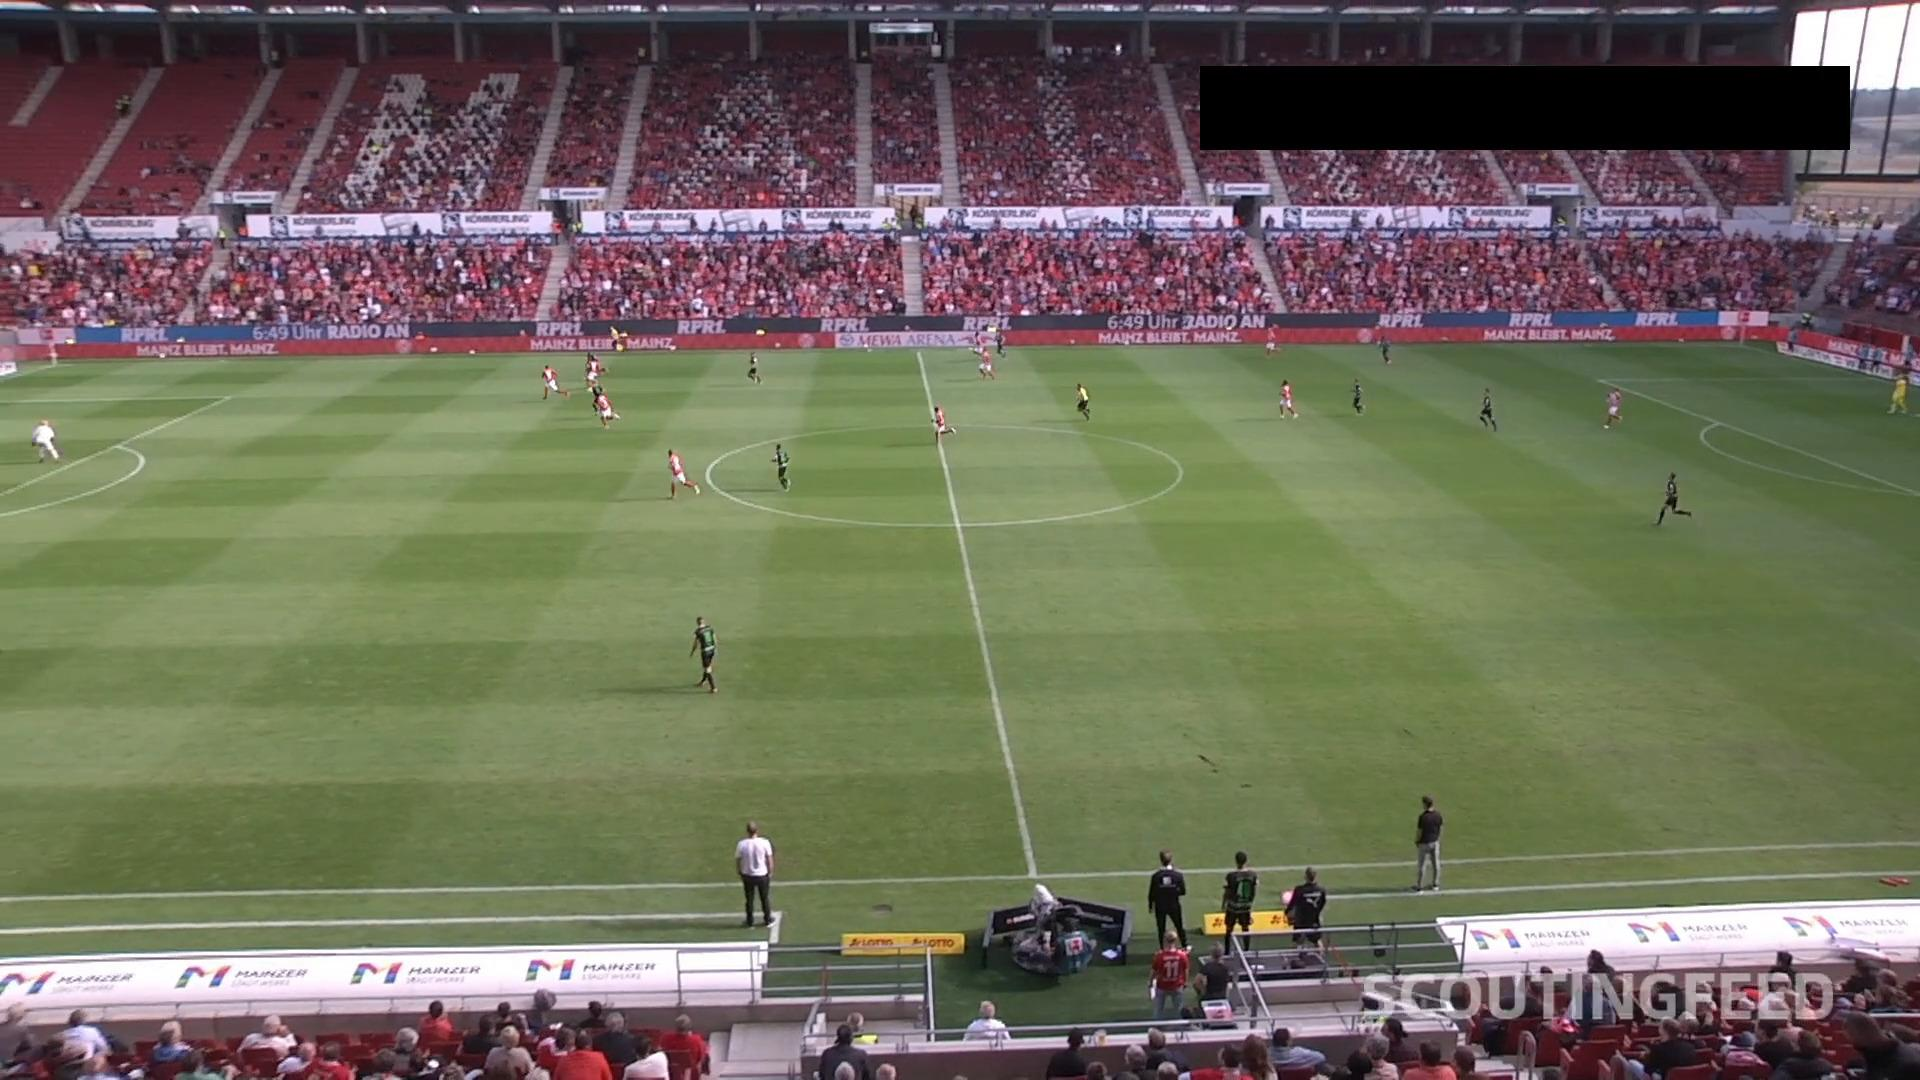keeper: (30, 418, 64, 462), (1888, 374, 1909, 415)
player: (691, 616, 719, 696), (1655, 470, 1693, 526), (666, 446, 702, 499), (540, 364, 571, 402), (931, 406, 958, 448), (771, 442, 793, 493), (1603, 386, 1624, 431), (1277, 378, 1298, 422), (1479, 385, 1499, 431), (598, 394, 619, 429), (584, 347, 608, 375), (746, 349, 763, 386), (1350, 378, 1367, 415), (1376, 335, 1395, 365), (977, 347, 994, 380), (1265, 324, 1282, 357), (970, 330, 987, 359), (591, 381, 604, 418), (993, 328, 1008, 359), (586, 360, 600, 391)
referee: (1075, 381, 1092, 422), (606, 322, 624, 352)
